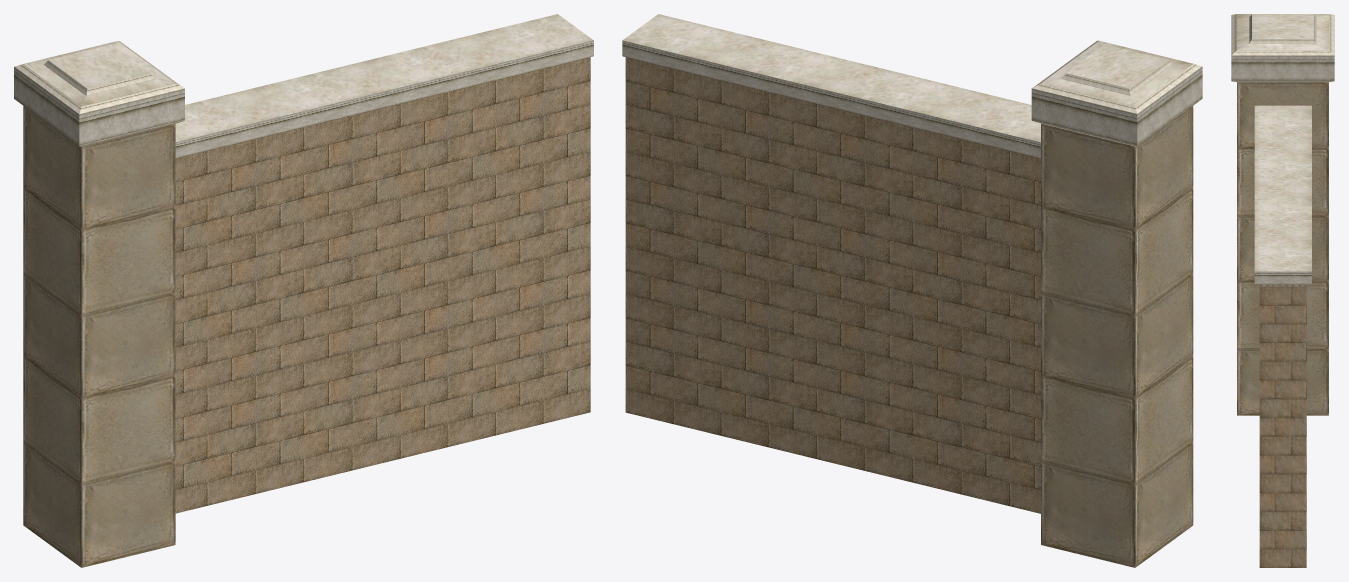
File: thm_nboo_thed_imprv_wallendpiece_s01_a1_l0.fbx
3 renders of one model, left to right at view 1: azimuth 30°, elevation 25°; view 2: azimuth 150°, elevation 25°; view 3: azimuth 270°, elevation 25°, orthographic. The views are drawn at different scales.
Visible parts, largest first — view 1: mesh_node; view 2: mesh_node; view 3: mesh_node.
Boxes of the visible parts, x1=… form: mesh_node: x1=14, y1=14, x2=593, y2=567; mesh_node: x1=622, y1=14, x2=1202, y2=567; mesh_node: x1=1231, y1=14, x2=1334, y2=567.
Bounding box in the file's own units: 11.41 × 9.65 × 2.43.
Materials: 1 (1 with a texture image).
